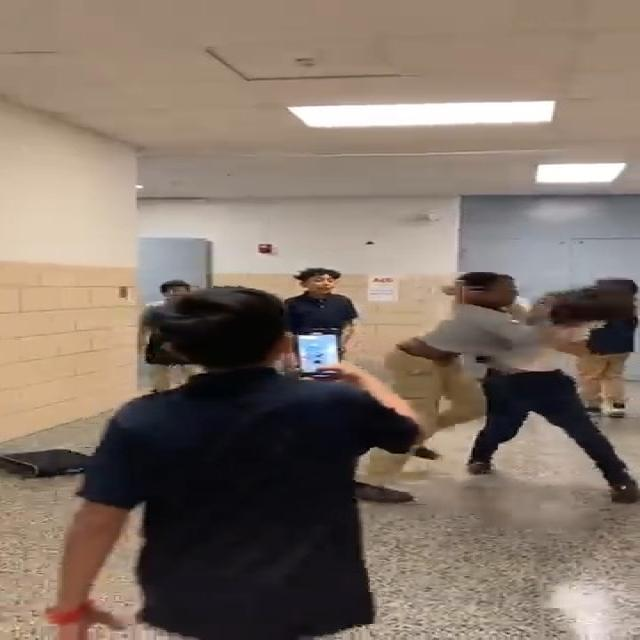fight: (386, 267, 640, 510)
